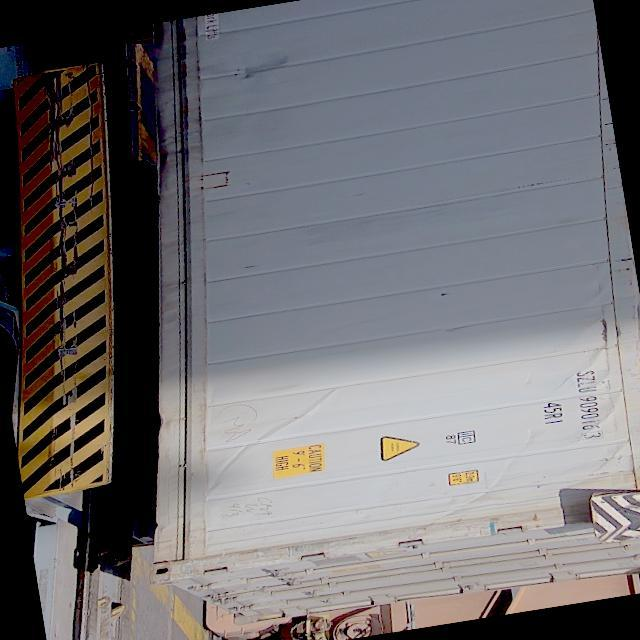rust: (582, 299, 632, 376)
